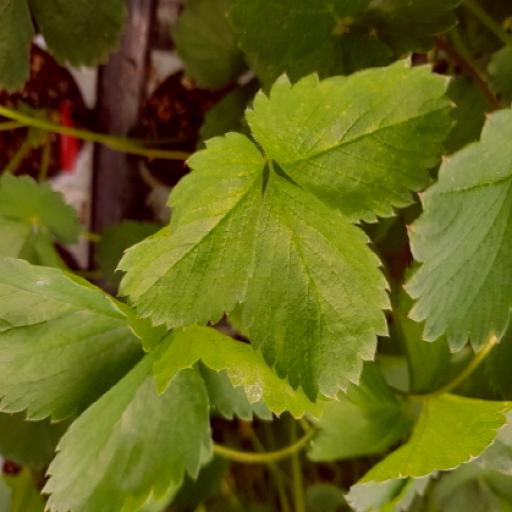Powdery Mildew Leaf: (176, 90, 359, 187)
